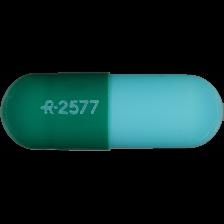0615-1341: (0, 0, 224, 224)
